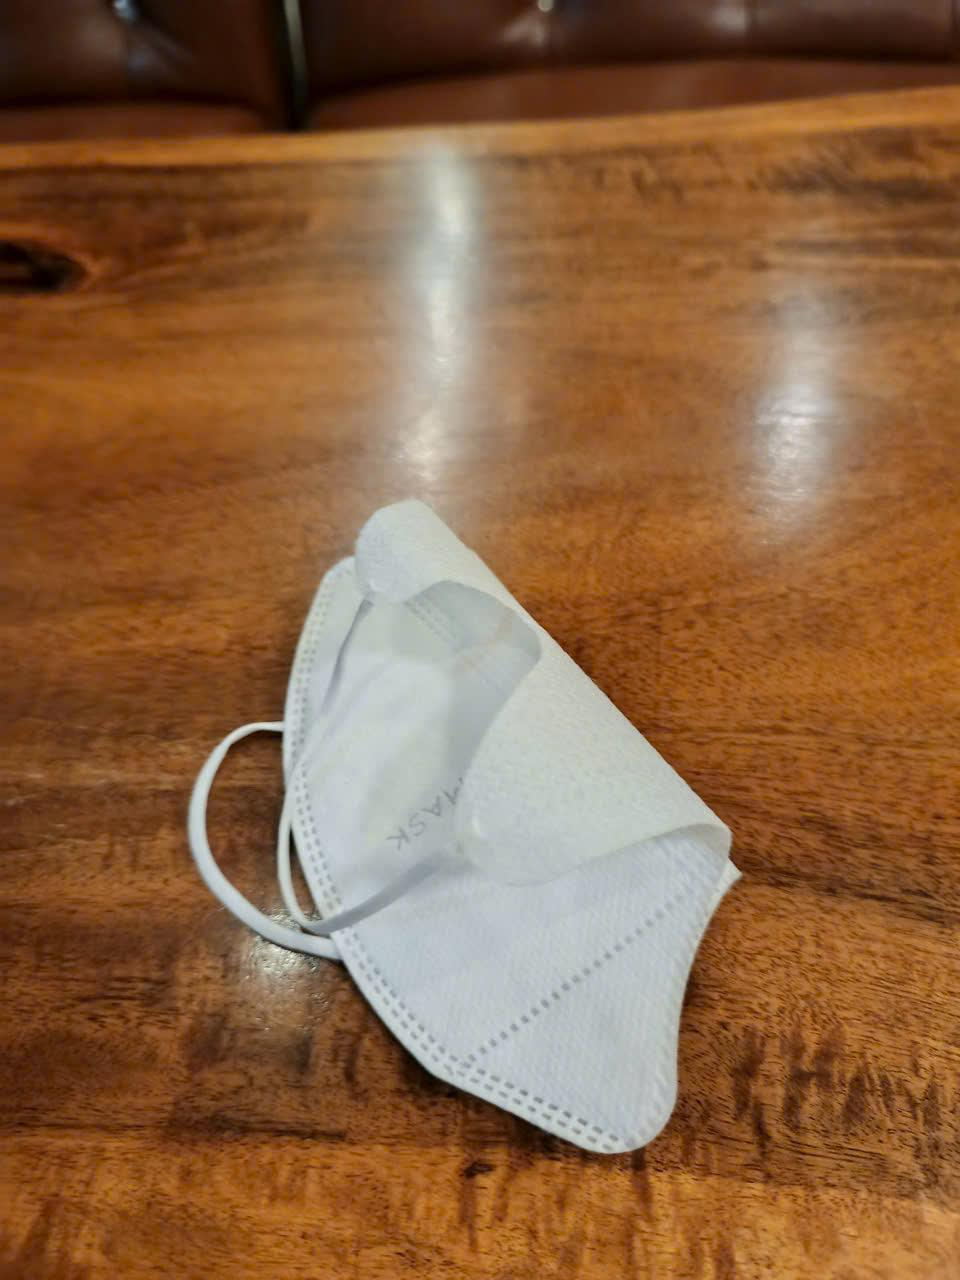Con lai: (190, 493, 746, 1161)
